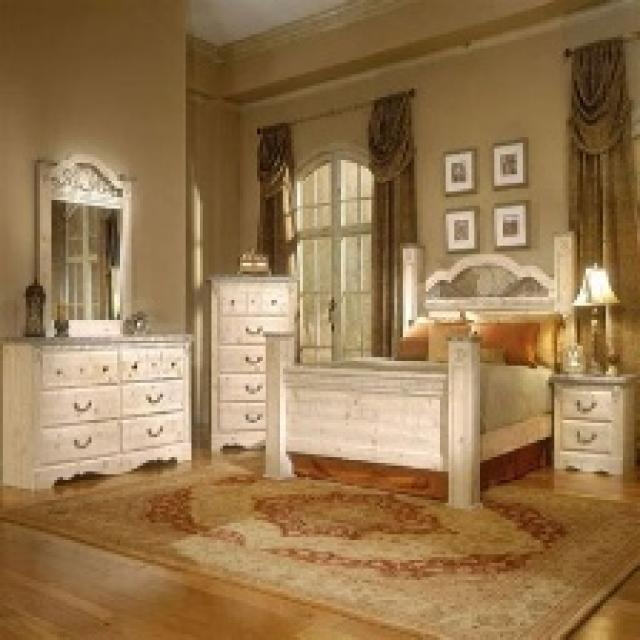Bed: (277, 228, 577, 508)
